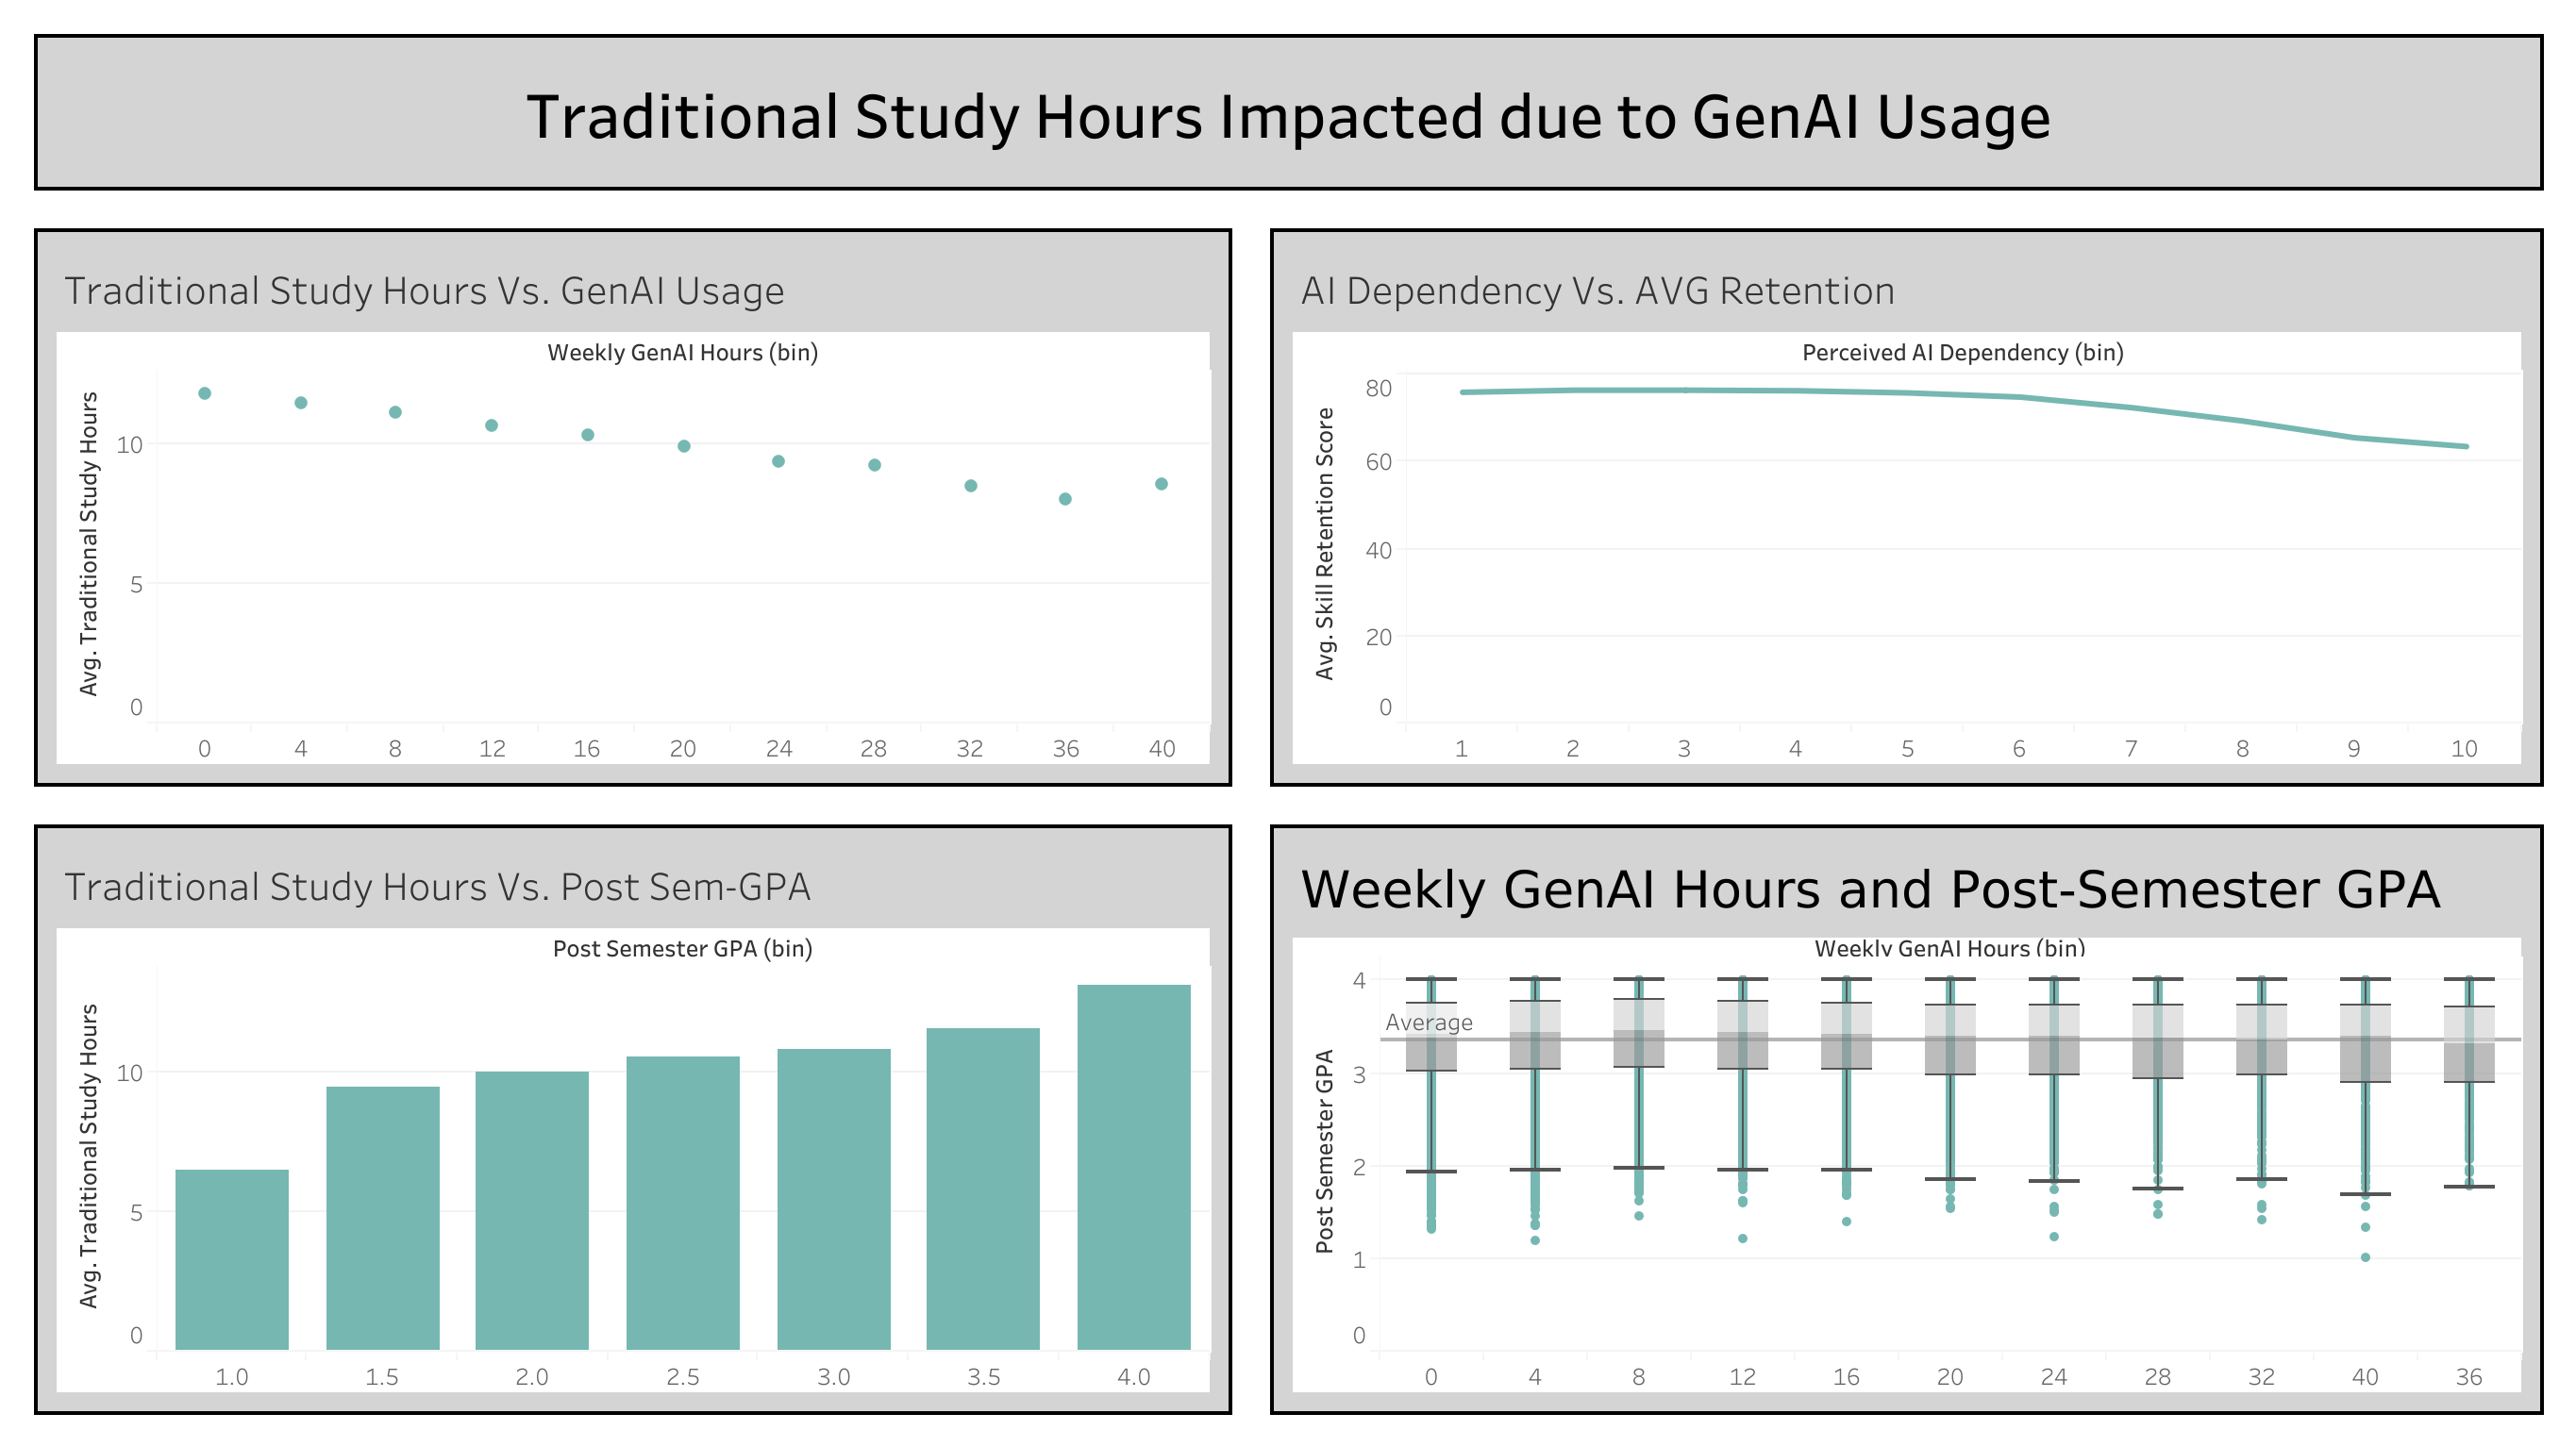

This screenshot's page, from the dashboard's own definition file:
{"tool":"tableau","page":{"name":"raditional Study Hours by GenAI Usage Level","canvas":[1366,768],"ordinal":0},"visuals":[{"type":"text","box":[8,8,1350,103]},{"type":"worksheet","title":"Traditional Study Hours Vs. GenAI Usage","mark":"Circle","rows":["Traditional_Study_Hours"],"cols":["Weekly GenAI Hours (bin)"],"box":[8,111,655,316]},{"type":"worksheet","title":"AI Dependency Vs. AVG Retention","mark":"Line","rows":["Skill_Retention_Score"],"cols":["Perceived AI Dependency (bin)"],"box":[663,111,695,316]},{"type":"worksheet","title":"Traditional Study Hours Vs. Post-GPA","mark":"Bar","rows":["Traditional_Study_Hours"],"cols":["Post Semester GPA (bin)"],"box":[8,427,655,333]},{"type":"worksheet","title":"relationship_bw_T_GPA","mark":"Circle","rows":["Post_Semester_GPA"],"cols":["Weekly GenAI Hours (bin)"],"box":[663,427,695,333]}]}

Visuals, with their boxes in screenshot pixels (x1, y1, x2, y2), scaled from the page's 1366x768 canvas onto the 2576x1447 screenshot:
text: box=[15, 15, 2561, 209]
"Traditional Study Hours Vs. GenAI Usage" worksheet (Circle marks): box=[15, 209, 1250, 805]
"AI Dependency Vs. AVG Retention" worksheet (Line marks): box=[1250, 209, 2561, 805]
"Traditional Study Hours Vs. Post-GPA" worksheet (Bar marks): box=[15, 805, 1250, 1432]
"relationship_bw_T_GPA" worksheet (Circle marks): box=[1250, 805, 2561, 1432]
